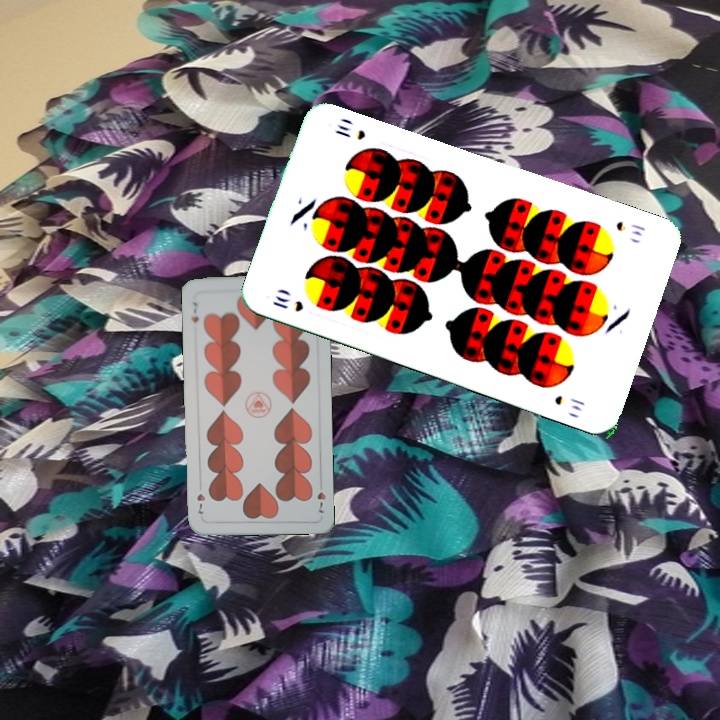H7: (313, 477, 329, 516), (188, 298, 201, 325)
S10: (268, 291, 306, 315), (612, 217, 648, 239)
